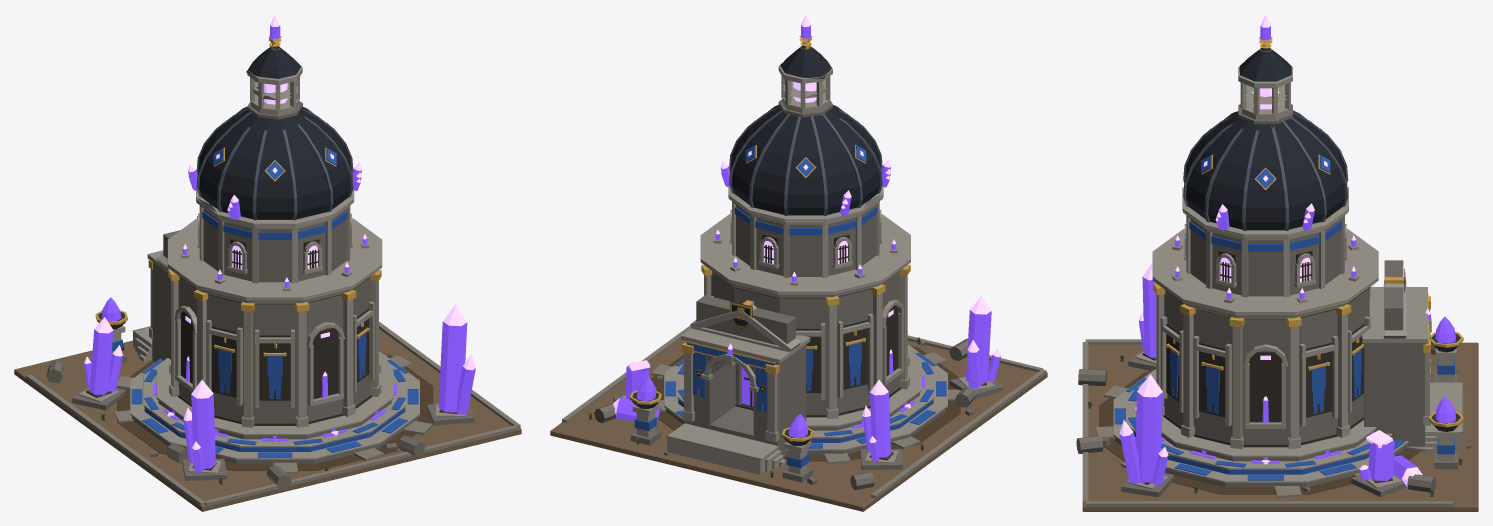
Rendered from 神秘圣地_低模.glb.
The picture shows the model from 3 angles, left to right: view 1: azimuth 30°, elevation 25°; view 2: azimuth 150°, elevation 25°; view 3: azimuth 270°, elevation 25°; orthographic projection. The views are drawn at different scales.
Parts seen in each view (by area): view 1: MS-stone_light, MS-stone_mid, MS-roof_edge, MS-earth, MS-crystal, MS-team, MS-stone_dark, MS-paving, MS-earth_dark, MS-roof_pale, MS-crystal_pale, MS-gold; view 2: MS-stone_light, MS-stone_mid, MS-earth, MS-roof_edge, MS-crystal, MS-team, MS-paving, MS-stone_dark, MS-roof_pale, MS-gold, MS-crystal_pale, MS-earth_dark; view 3: MS-stone_light, MS-stone_mid, MS-roof_edge, MS-earth, MS-crystal, MS-team, MS-stone_dark, MS-paving, MS-roof_pale, MS-crystal_pale, MS-earth_dark, MS-gold.
Part boxes in pixels (box(x1,y1,x2,y2)): MS-stone_light: box(79, 62, 465, 473); MS-stone_mid: box(46, 101, 474, 489); MS-roof_edge: box(198, 46, 351, 219); MS-earth: box(14, 329, 521, 511); MS-crystal: box(84, 25, 475, 472); MS-team: box(112, 123, 418, 457); MS-stone_dark: box(177, 239, 372, 425); MS-paving: box(26, 321, 520, 506); MS-earth_dark: box(86, 353, 457, 470); MS-roof_pale: box(196, 106, 353, 220); MS-crystal_pale: box(84, 14, 475, 449); MS-gold: box(95, 35, 381, 356); MS-stone_light: box(622, 60, 994, 474); MS-stone_mid: box(594, 99, 1003, 490); MS-earth: box(550, 339, 1047, 511); MS-roof_edge: box(696, 45, 880, 391); MS-crystal: box(616, 25, 1000, 461); MS-team: box(634, 121, 946, 468); MS-paving: box(562, 325, 1046, 498); MS-stone_dark: box(712, 234, 901, 417); MS-roof_pale: box(729, 105, 882, 215); MS-gold: box(630, 35, 910, 441); MS-crystal_pale: box(613, 14, 1000, 442); MS-earth_dark: box(651, 346, 986, 461); MS-stone_light: box(1113, 66, 1463, 489); MS-stone_mid: box(1076, 104, 1471, 497); MS-roof_edge: box(1185, 47, 1405, 289); MS-earth: box(1082, 342, 1478, 511); MS-crystal: box(1119, 26, 1455, 487); MS-team: box(1114, 128, 1454, 480); MS-stone_dark: box(1163, 250, 1370, 447); MS-paving: box(1082, 339, 1452, 507); MS-roof_pale: box(1183, 110, 1348, 230); MS-crystal_pale: box(1119, 14, 1430, 486); MS-earth_dark: box(1099, 353, 1420, 494); MS-gold: box(1153, 37, 1463, 427).
Bounding box in the file's own units: 13.7 × 16.18 × 14.17.
